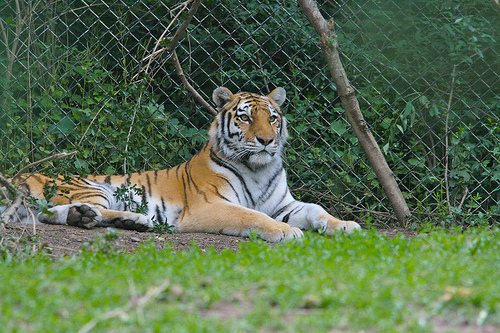Tigre: (14, 83, 368, 263)
